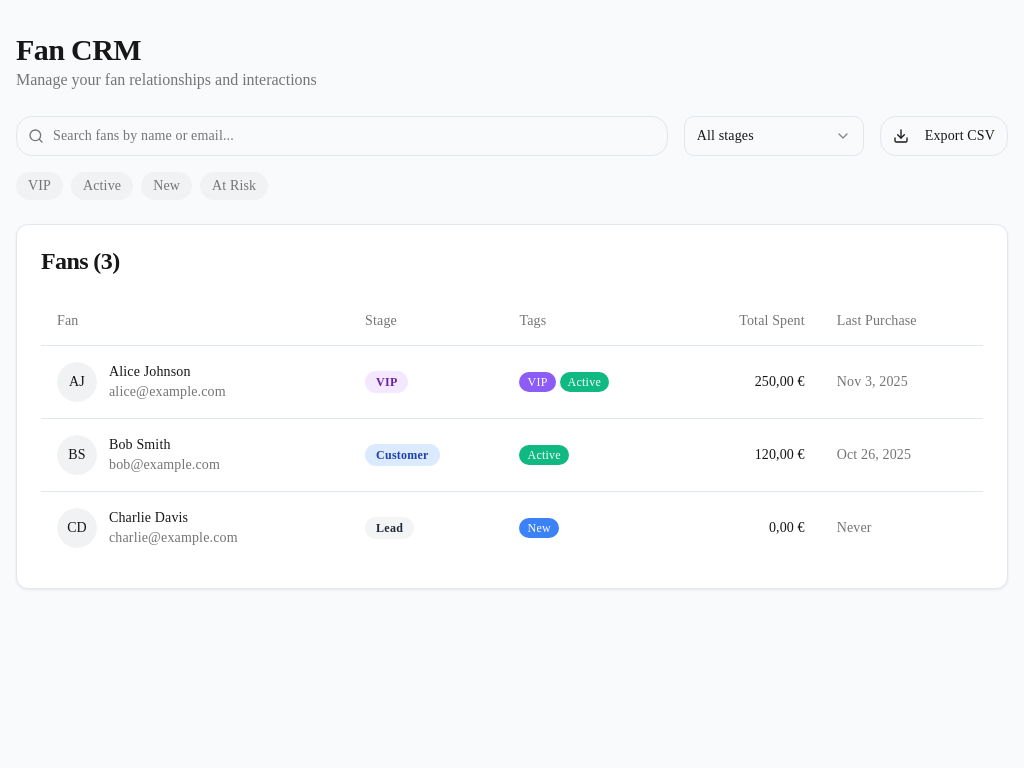
Test case: CRM Fans List Page › searches fans with debounce
The width and height of the screenshot is (1024, 768).
Expected: the element with test id "fan-table" is shown, top-left (16, 224), bottom-right (1008, 588)
Expected: the text "Alice Johnson" is shown, top-left (109, 364), bottom-right (190, 378)
Type "Alice" into the search field with test id "search-input".
click(342, 136); type("Alice")  # box top-left (16, 116), bottom-right (668, 156)
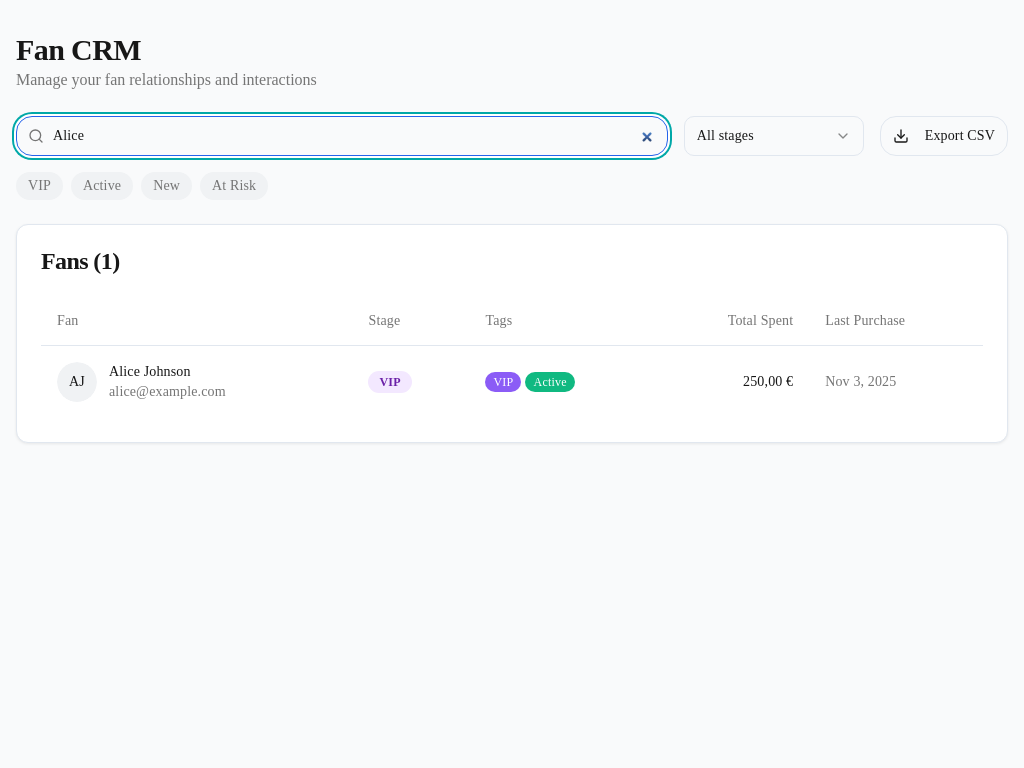
Expected: the text "Alice Johnson" is shown, top-left (109, 364), bottom-right (190, 378)
Expected: the text "Bob Smith" is gone
